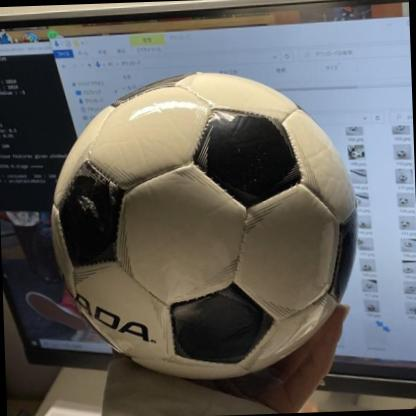ball: (44, 67, 364, 384)
